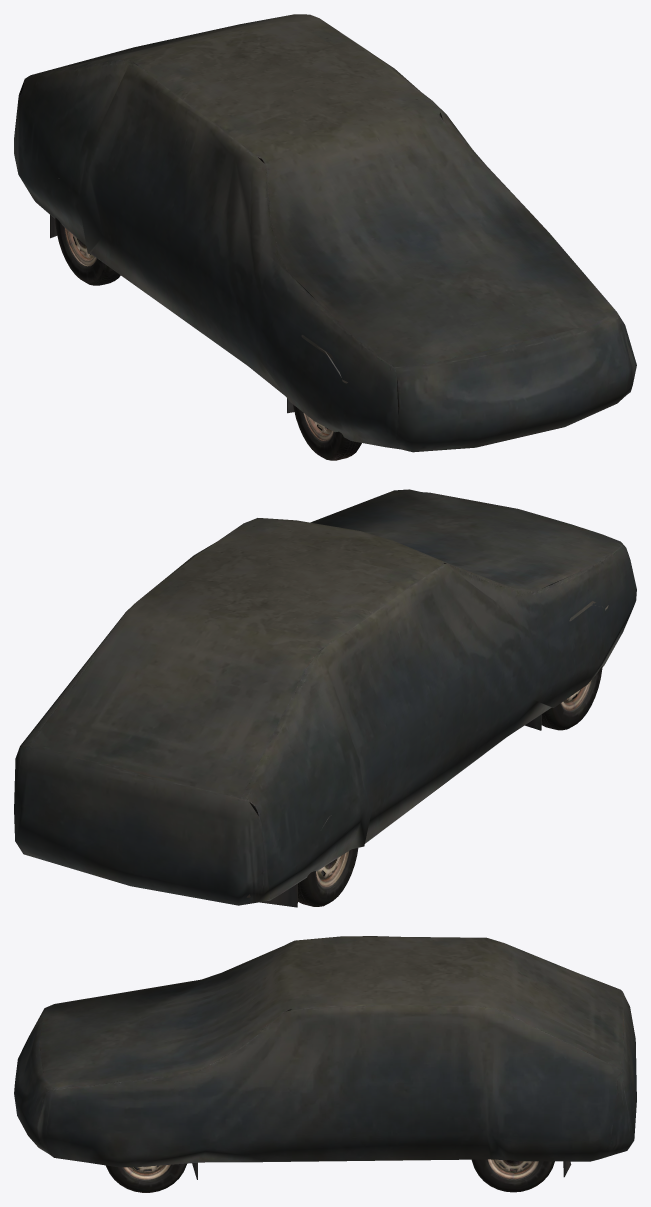
Rendered from covered_car.glb.
3 views of the same model, one above another, from view 1: azimuth 30°, elevation 25°; view 2: azimuth 150°, elevation 25°; view 3: azimuth 270°, elevation 25° (orthographic). The views are drawn at different scales.
Visible parts, largest first — view 1: covered_car, covered_car_wheel_03, covered_car_wheel_02; view 2: covered_car, covered_car_wheel_03, covered_car_wheel_02; view 3: covered_car, covered_car_wheel_04, covered_car_wheel_01.
Part boxes in pixels (x1,y1,x2,y2): covered_car: [14, 14, 636, 452]; covered_car_wheel_03: [55, 217, 120, 285]; covered_car_wheel_02: [293, 404, 361, 460]; covered_car: [14, 489, 636, 907]; covered_car_wheel_03: [298, 848, 358, 906]; covered_car_wheel_02: [541, 666, 602, 730]; covered_car: [14, 936, 636, 1179]; covered_car_wheel_04: [471, 1159, 554, 1192]; covered_car_wheel_01: [105, 1163, 186, 1192].
Bounding box in the file's own units: 1.79 × 1.41 × 4.38.
Materials: 1 (1 with a texture image).
